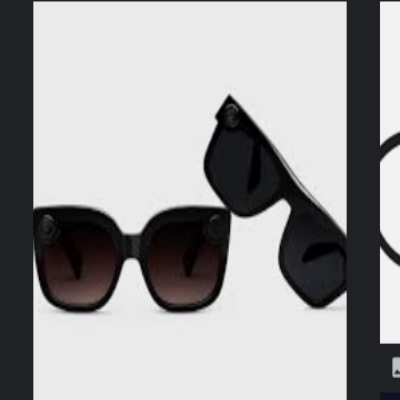glasses: (203, 90, 350, 315), (34, 201, 233, 324)
